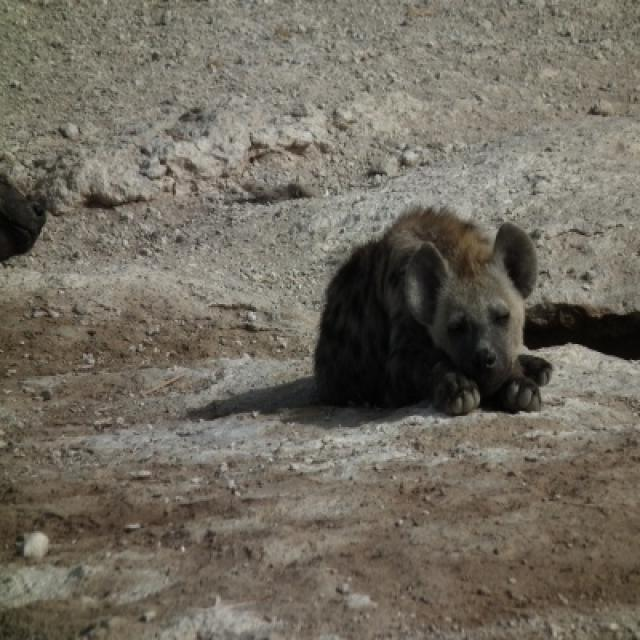hyena: (312, 208, 554, 419)
